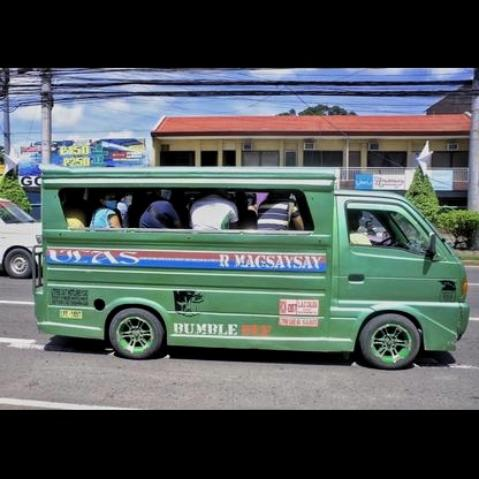jeepney: (31, 149, 479, 379)
